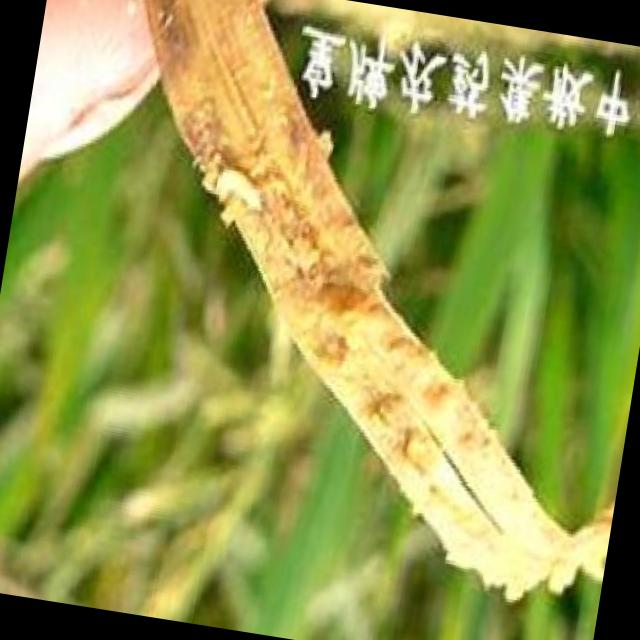whorl-maggot: (204, 150, 274, 228)
